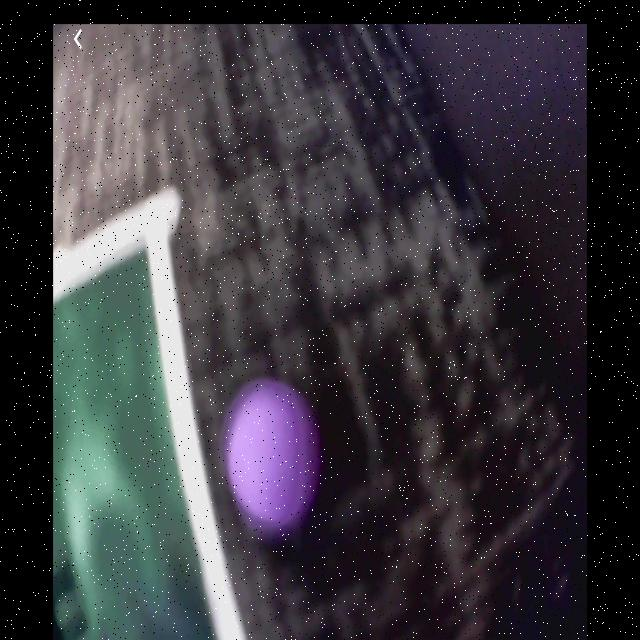ball: (228, 384, 323, 525)
